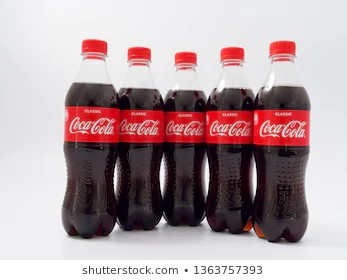coke-bottle-700ml: (58, 35, 123, 239), (253, 34, 310, 246), (206, 42, 256, 235), (116, 44, 166, 231), (163, 47, 210, 230)
